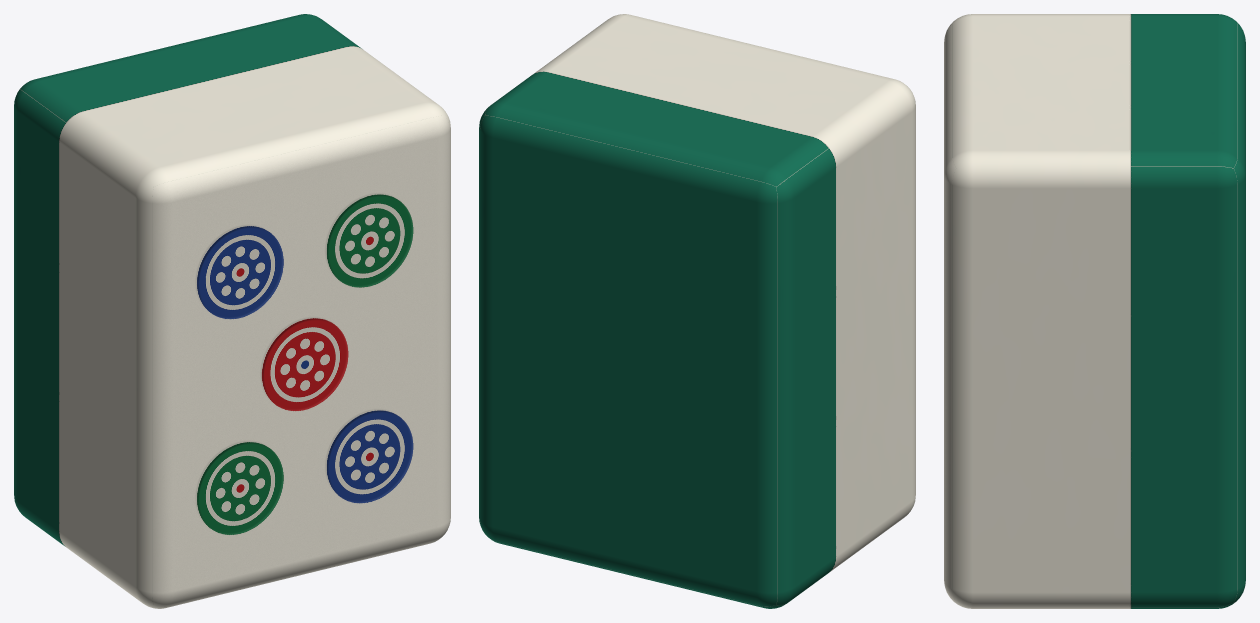
File: tile_5p.obj
3 renders of one model, left to right at view 1: azimuth 30°, elevation 25°; view 2: azimuth 150°, elevation 25°; view 3: azimuth 270°, elevation 25°, orthographic. The views are drawn at different scales.
Parts seen in each view (by area): view 1: tile_5p; view 2: tile_5p; view 3: tile_5p.
Boxes of the visible parts, x1,y1,x2,y2 form: tile_5p: (14, 14, 450, 608); tile_5p: (479, 14, 915, 608); tile_5p: (944, 14, 1245, 608).
Size of the model in its own units: 0.026 by 0.035 by 0.021.
Materials: 1 (1 with a texture image).
